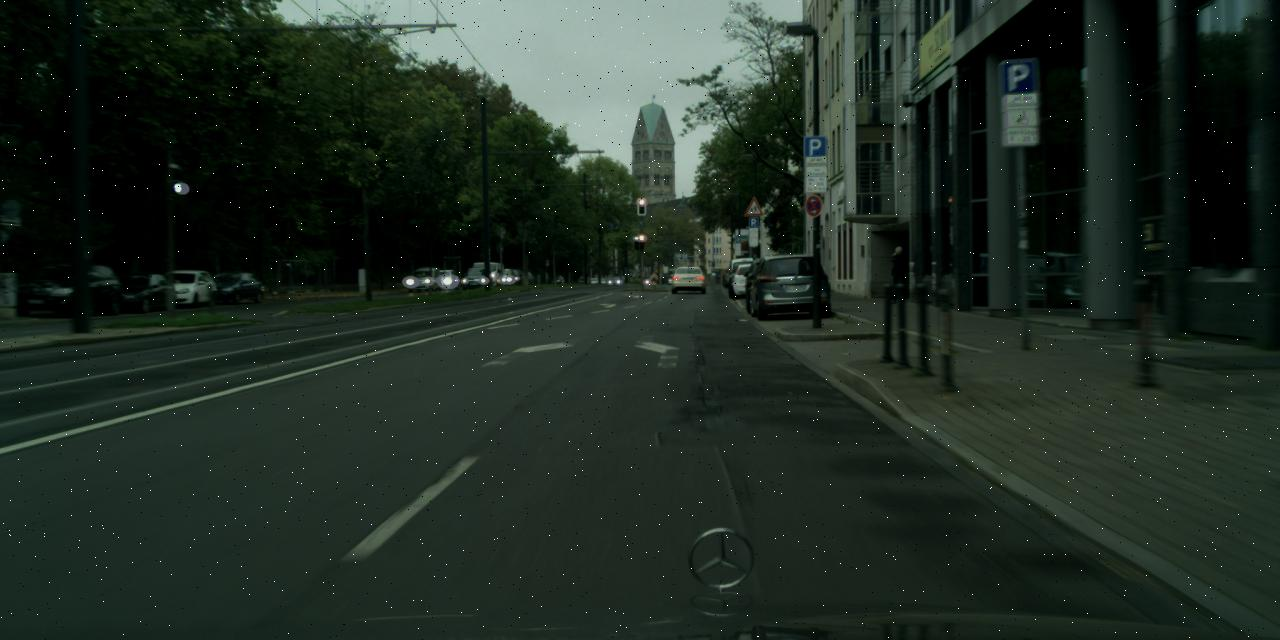ped: (886, 246, 910, 302)
